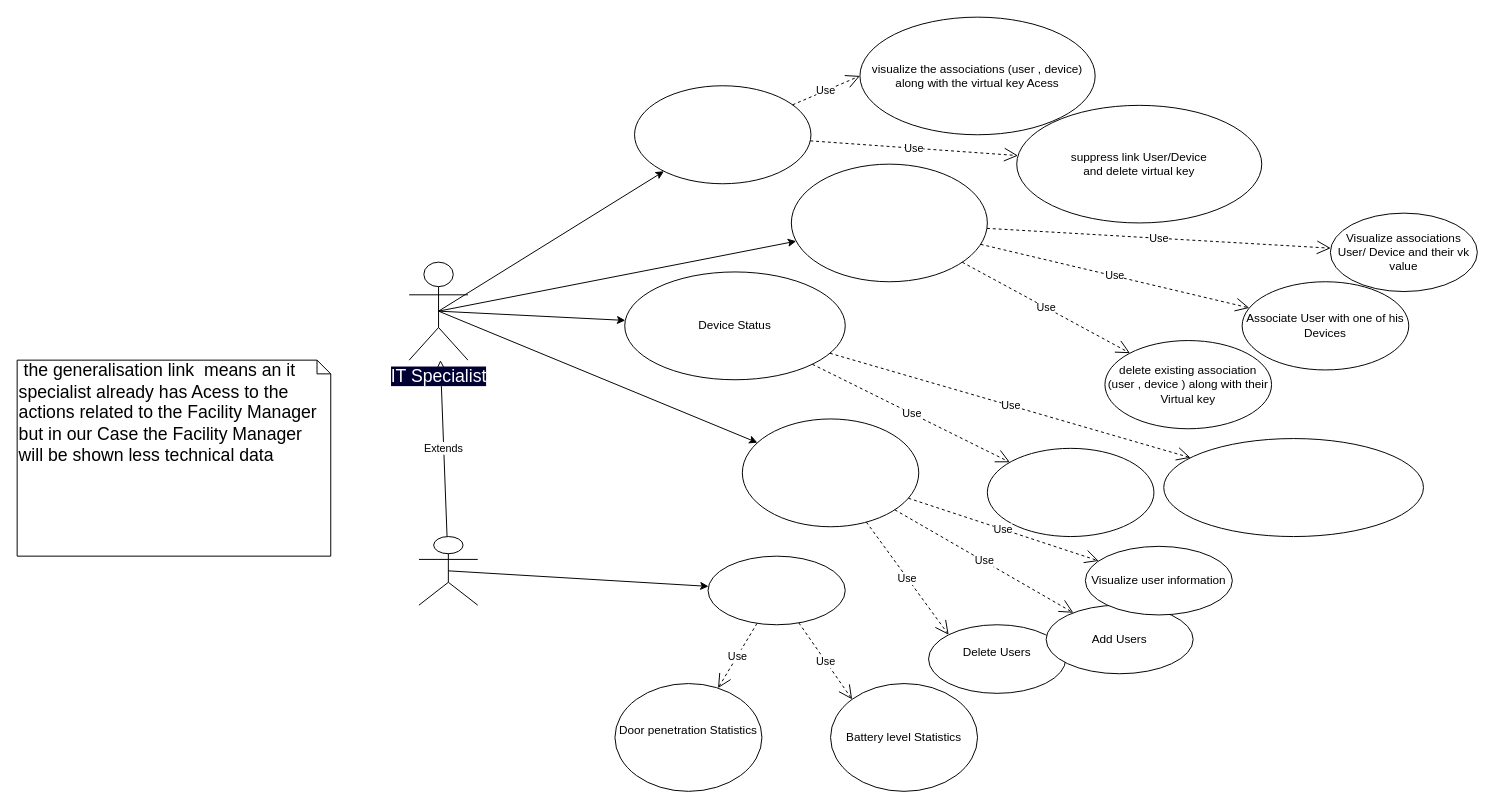
The diagram is 1495 pixels wide and 809 high, and some of its shapes have lost their labels. The centre of each missing label's shape, as x and y in pixels:
"Add A new Device To the Database" goes at point (1070, 492).
"Associations" goes at point (722, 134).
"Data visualization (statitstics)" goes at point (776, 590).
"Facility Manager" goes at point (448, 570).
"User Administration" goes at point (830, 472).
"Virtual Key Management" goes at point (888, 222).
"Visualize Devices along with their info" goes at point (1293, 487).
